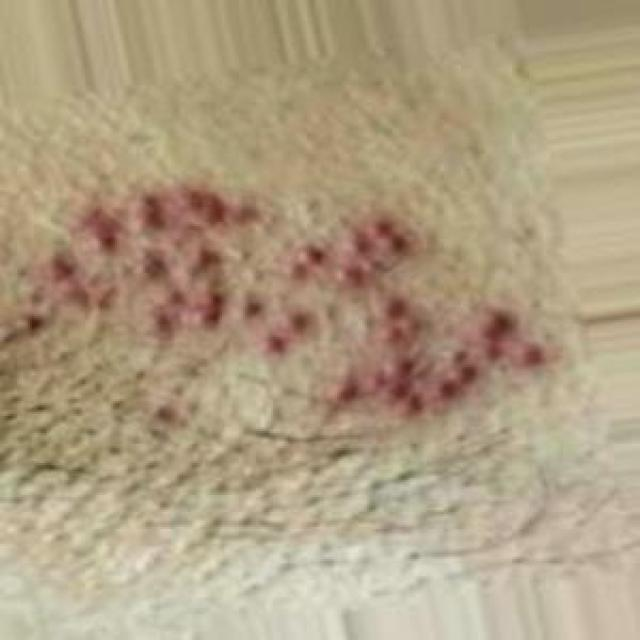Shingles: (33, 180, 553, 416)
